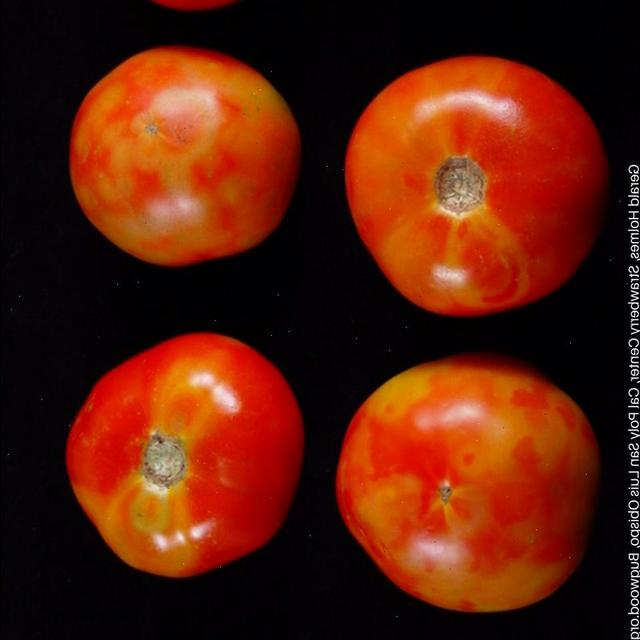Spotted wilt Virus Fruit: (122, 104, 317, 322)
